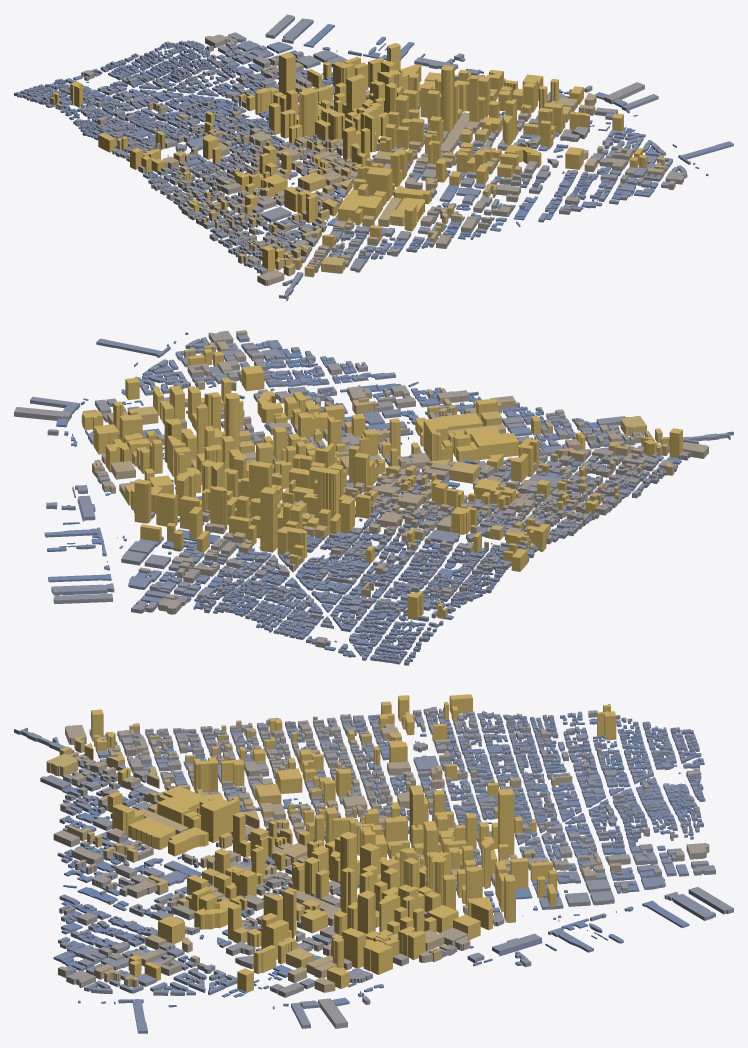
Rendered from buildings.glb.
3 views of the same model, one above another, from view 1: azimuth 30°, elevation 25°; view 2: azimuth 150°, elevation 25°; view 3: azimuth 270°, elevation 25° (orthographic). The views are drawn at different scales.
Visible parts, largest first — view 1: buildings; view 2: buildings; view 3: buildings.
Part boxes in pixels (left/top/right/bottom): buildings: left=14, top=14, right=733, bottom=301; buildings: left=14, top=330, right=733, bottom=665; buildings: left=14, top=694, right=733, bottom=1033.
Size of the model in its own units: 2688 by 345 by 2737.
